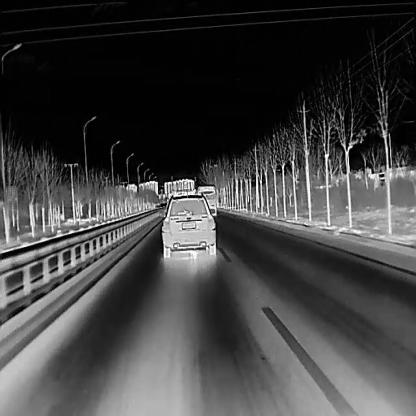bus: (194, 184, 216, 215)
car: (161, 192, 215, 258)
